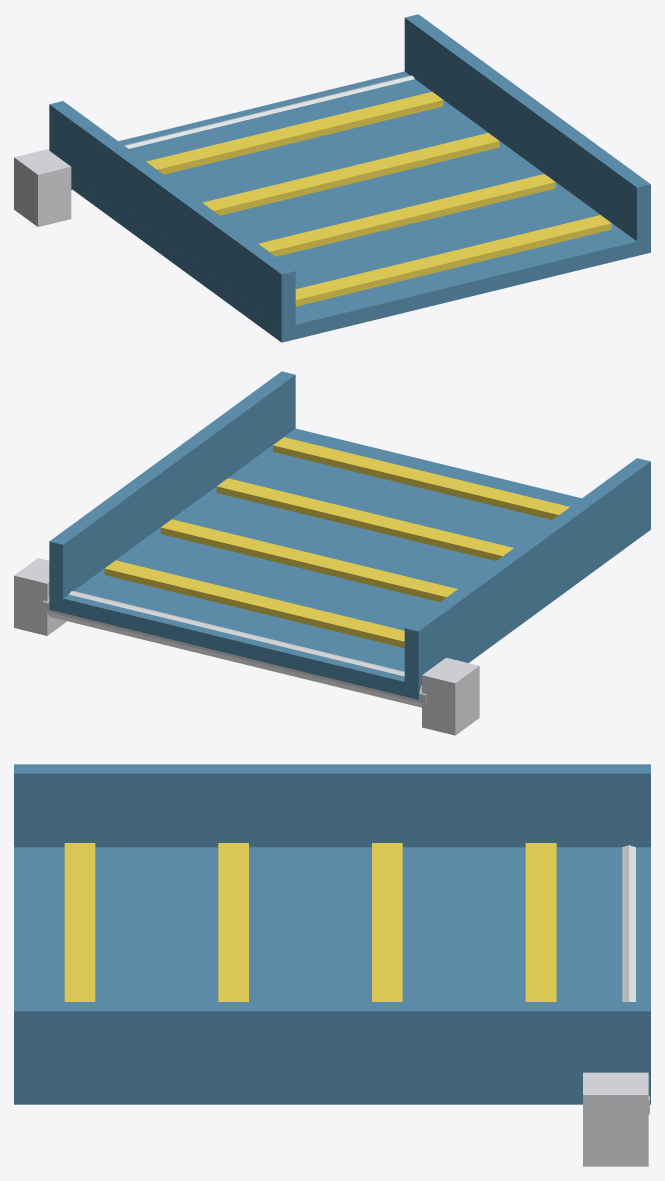
Rendered from fish-market-and-trawler-quay-fish-market-and-trawler-q-fa2036d9__37261.glb.
The picture shows the model from 3 angles, top to bottom: view 1: azimuth 30°, elevation 25°; view 2: azimuth 150°, elevation 25°; view 3: azimuth 270°, elevation 25°; orthographic projection. The views are drawn at different scales.
Visible parts, largest first — view 1: stern-ramp/paint (×3), stern-ramp/yellow (×4), fish-market-and-trawler-quay-stern-ramp, stern-ramp/steel; view 2: stern-ramp/paint (×3), stern-ramp/yellow (×4), fish-market-and-trawler-quay-stern-ramp, stern-ramp/steel; view 3: stern-ramp/paint (×3), stern-ramp/yellow (×4), fish-market-and-trawler-quay-stern-ramp, stern-ramp/steel.
Part boxes in pixels (box(x1,y1,x2,y2)): stern-ramp/paint (×3): box(49, 14, 650, 342); stern-ramp/yellow (×4): box(146, 92, 611, 306); fish-market-and-trawler-quay-stern-ramp: box(14, 149, 71, 226); stern-ramp/steel: box(71, 75, 414, 189); stern-ramp/paint (×3): box(49, 371, 650, 699); stern-ramp/yellow (×4): box(104, 437, 569, 648); fish-market-and-trawler-quay-stern-ramp: box(14, 558, 479, 735); stern-ramp/steel: box(42, 591, 426, 707); stern-ramp/paint (×3): box(14, 764, 650, 1104); stern-ramp/yellow (×4): box(64, 843, 556, 1001); fish-market-and-trawler-quay-stern-ramp: box(583, 1072, 648, 1166); stern-ramp/steel: box(622, 845, 649, 1114).
Size of the model in its own units: 3.18 by 0.6599 by 2.9.
